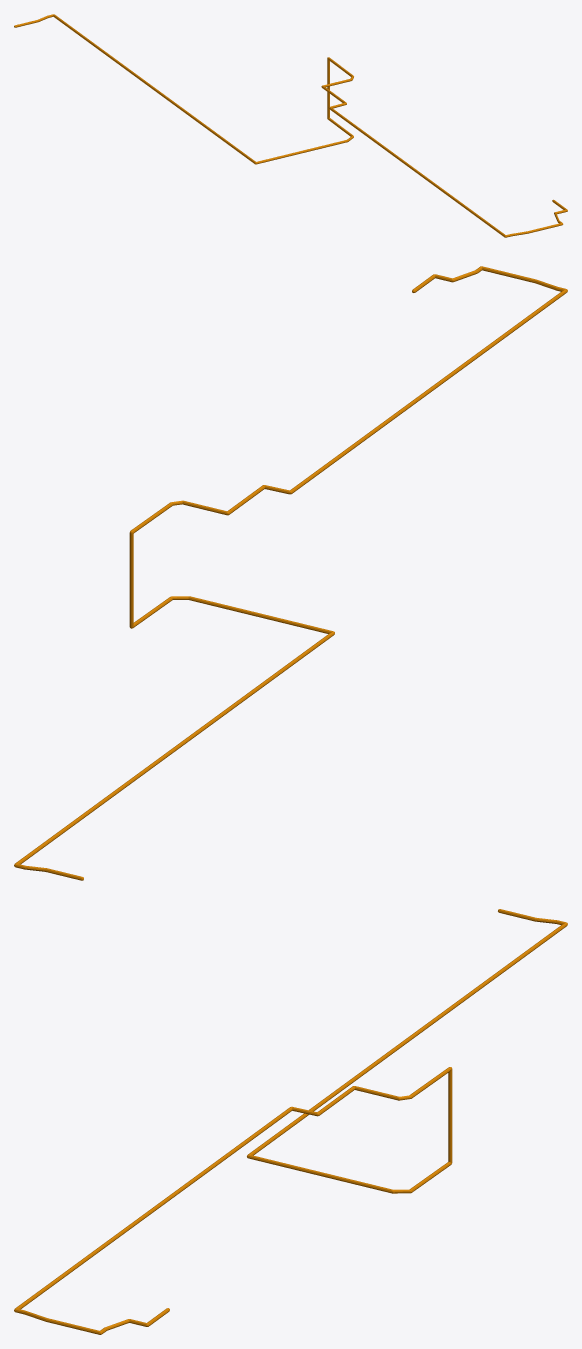
3 views of the same model, one above another, from view 1: azimuth 30°, elevation 25°; view 2: azimuth 150°, elevation 25°; view 3: azimuth 330°, elevation 25° (orthographic). The views are drawn at different scales.
Bounding box in the file's own units: 1445 × 520 × 6095.
